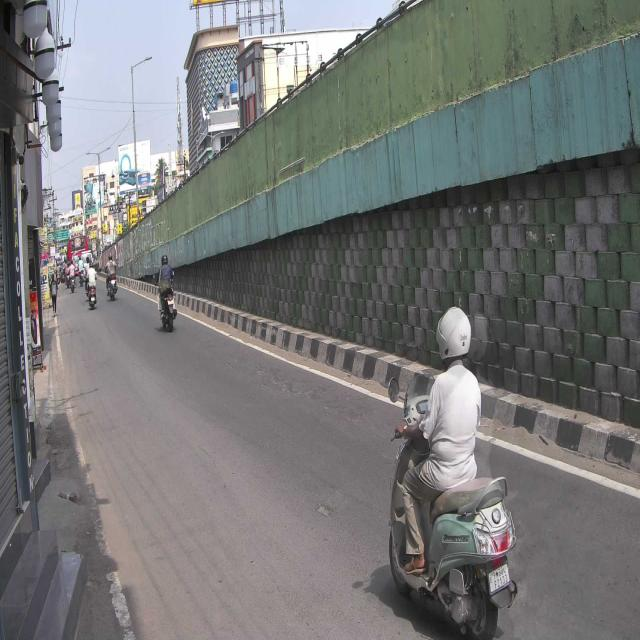single_rider: (387, 305, 519, 640)
